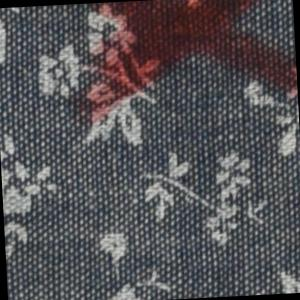Stain: (58, 1, 299, 131)
